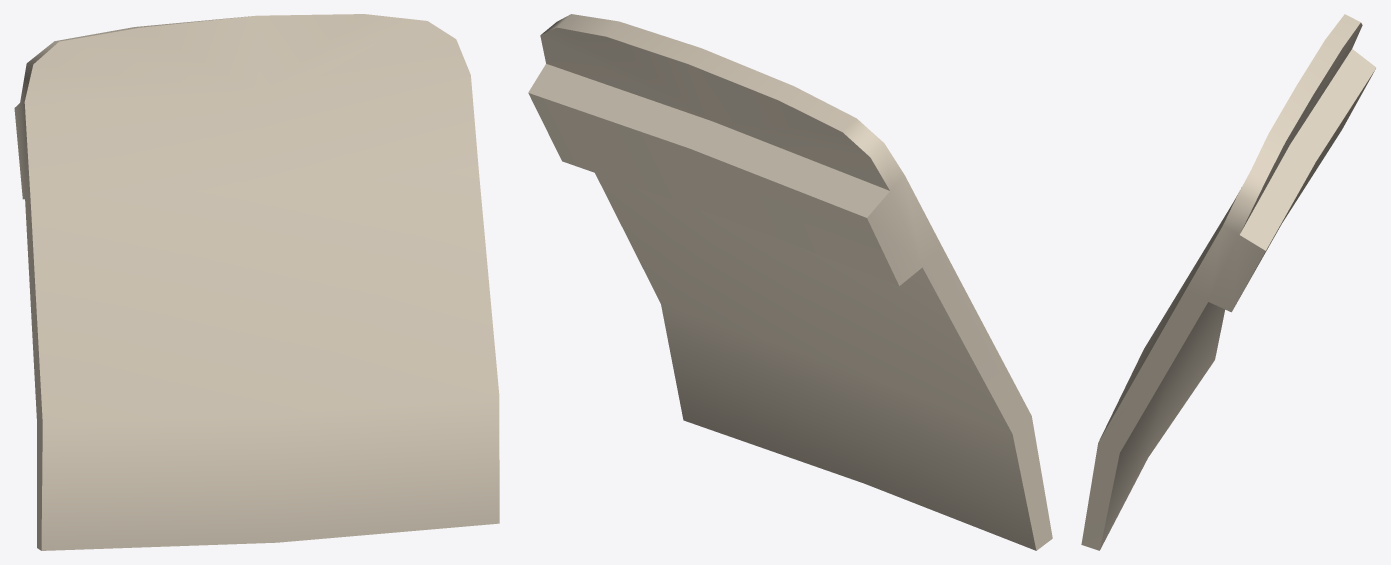
Rendered from shoulderarmor-mediumguardhousesoldiers.glb.
3 renders of one model, left to right at view 1: azimuth 30°, elevation 25°; view 2: azimuth 150°, elevation 25°; view 3: azimuth 270°, elevation 25°, orthographic. The views are drawn at different scales.
Bounding box in the file's own units: 0.2233 × 0.2176 × 0.1416.
